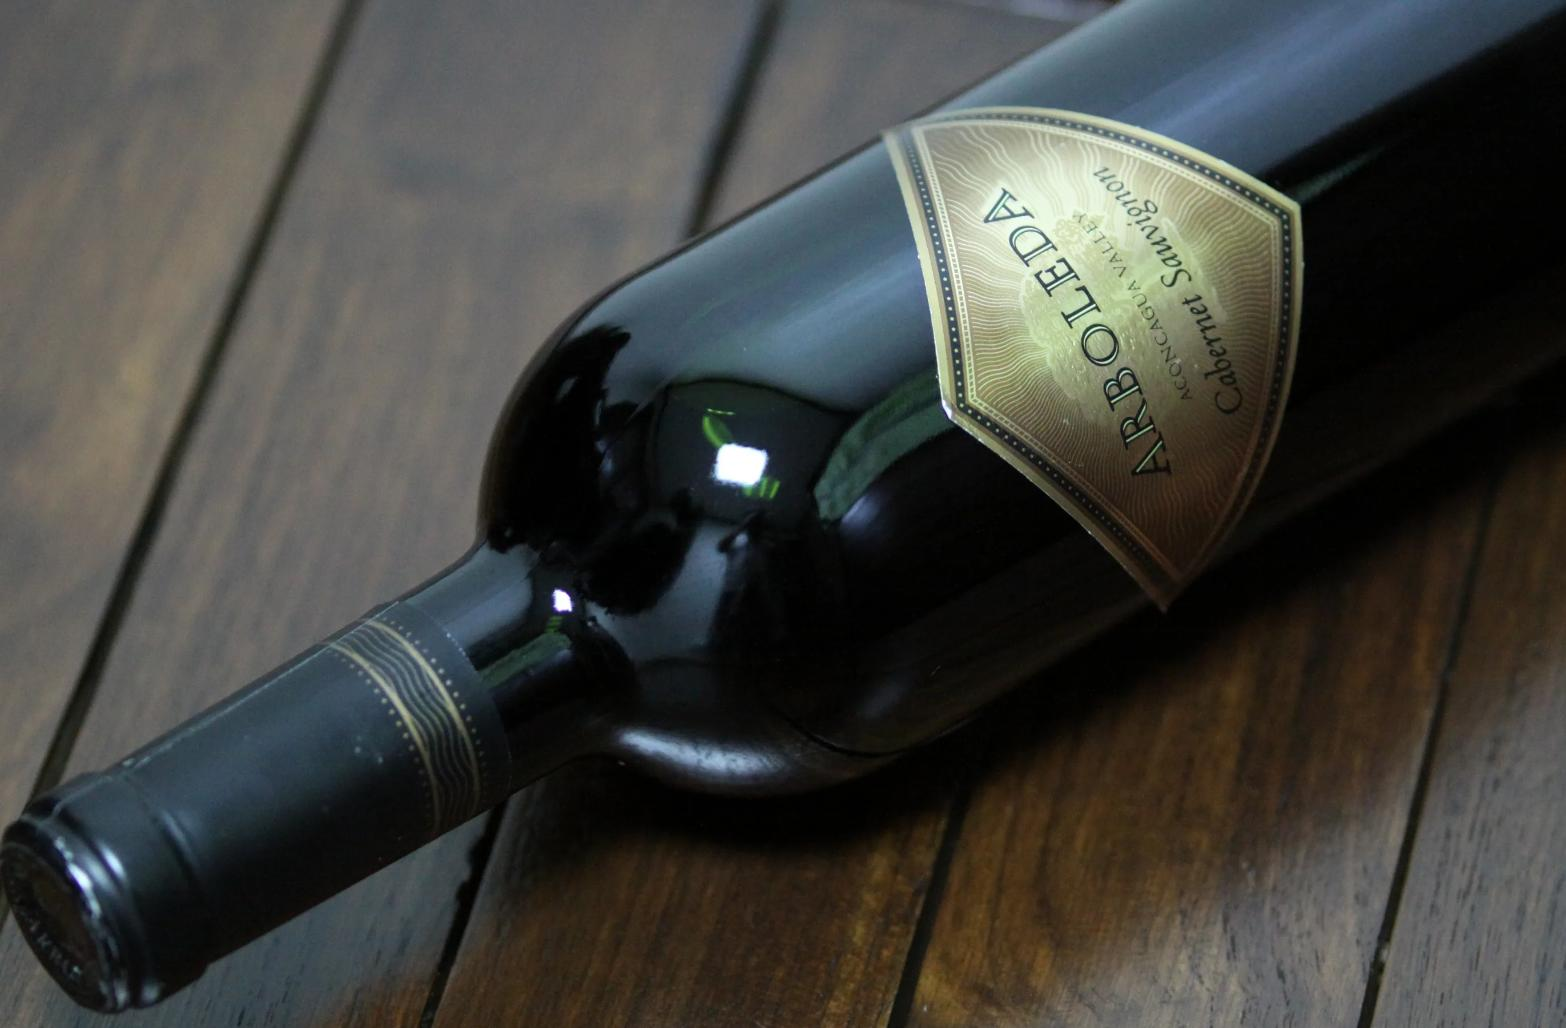wine bottle: (0, 0, 1566, 1019)
wine label: (885, 107, 1303, 614)
